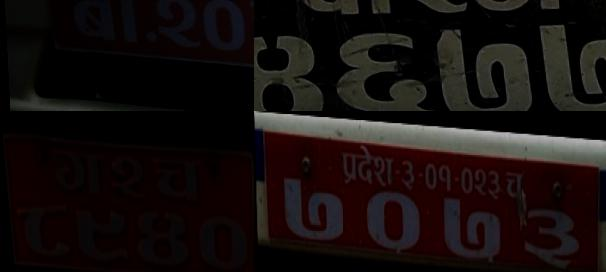0: (364, 185, 422, 254), (194, 209, 253, 272), (196, 0, 247, 53), (423, 157, 438, 190), (460, 161, 473, 194)
1: (437, 158, 453, 191)
2: (148, 0, 201, 49), (109, 151, 149, 201), (397, 0, 468, 17), (474, 163, 488, 196)
3: (521, 198, 582, 264), (400, 154, 415, 190), (488, 163, 502, 197)
4: (254, 24, 324, 111), (134, 205, 193, 269)
6: (331, 22, 435, 111)
7: (430, 22, 537, 111), (536, 17, 606, 111), (278, 169, 346, 246), (438, 190, 504, 261)
8: (12, 194, 72, 262)
9: (72, 201, 132, 263)
ba: (62, 0, 144, 46), (288, 0, 396, 18)
cha: (151, 152, 204, 203), (503, 162, 526, 197)
ga: (50, 140, 106, 197)
